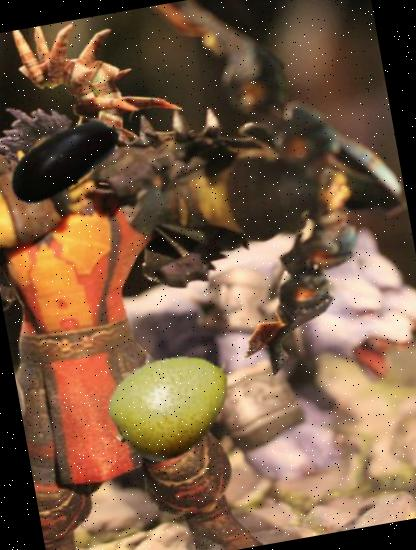Eggplant: (0, 86, 137, 232)
Pear: (96, 324, 248, 476)
